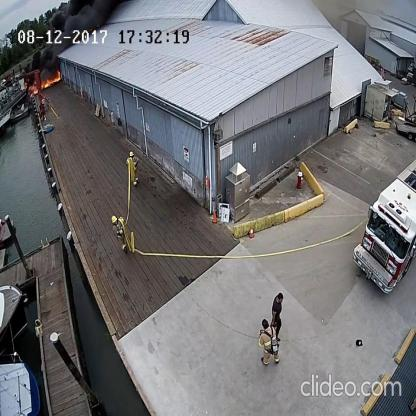fire: (42, 65, 62, 90), (24, 80, 38, 96)
